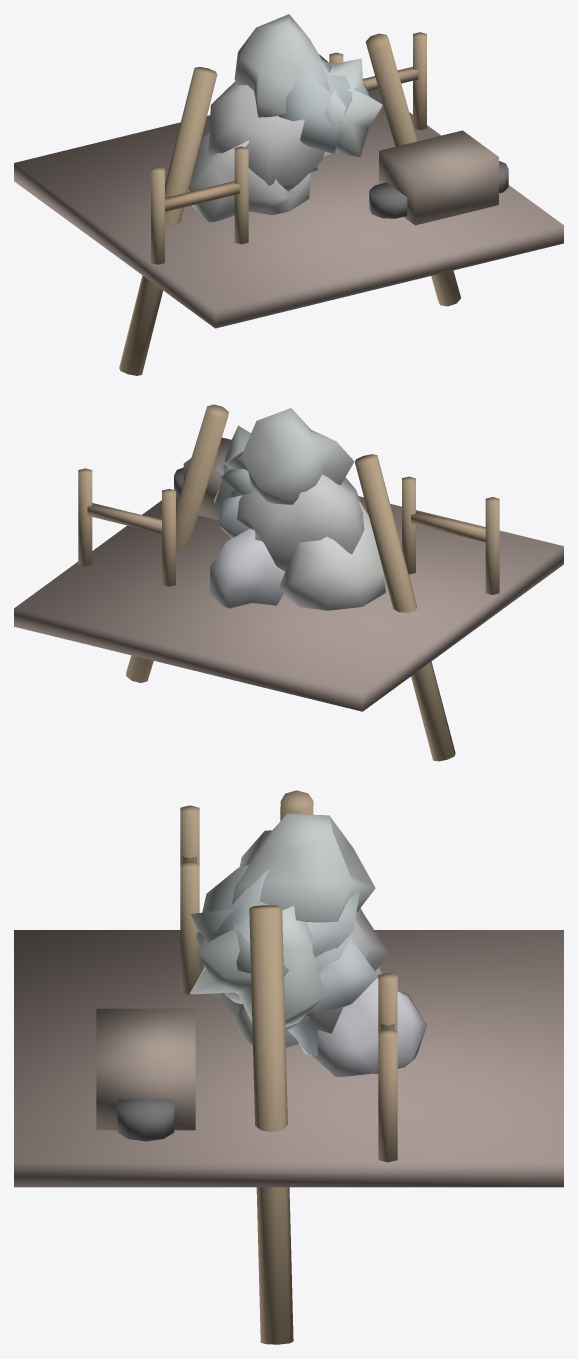
The model's file is ore_silver_medium.glb.
The picture shows the model from 3 angles, top to bottom: view 1: azimuth 30°, elevation 25°; view 2: azimuth 150°, elevation 25°; view 3: azimuth 270°, elevation 25°; orthographic projection. The views are drawn at different scales.
Visible parts, largest first — view 1: ore_base, cart_body, ore2, strut1, ore6, ore1, ore5, strut0, ore4, fpost-0.360.12, fpost-0.36-0.12, fpost0.36-0.12 (+2 smaller); view 2: ore_base, ore6, ore2, ore1, strut1, ore0, strut0, fpost-0.36-0.12, fpost0.36-0.12, fpost0.360.12, fpost-0.360.12, cart_body (+5 smaller); view 3: ore_base, strut0, cart_body, ore6, ore4, ore0, ore5, ore3, fpost0.36-0.12, fpost-0.360.12, ore2, cart_wheel1 (+4 smaller).
Part boxes in pixels (x1=…): ore_base: x1=14, y1=78, x2=563, y2=328; cart_body: x1=379, y1=130, x2=498, y2=225; ore2: x1=207, y1=81, x2=324, y2=191; strut1: x1=119, y1=67, x2=217, y2=375; ore6: x1=234, y1=14, x2=331, y2=117; ore1: x1=188, y1=134, x2=310, y2=222; ore5: x1=278, y1=56, x2=371, y2=153; strut0: x1=365, y1=33, x2=460, y2=306; ore4: x1=323, y1=58, x2=382, y2=157; fpost-0.360.12: x1=234, y1=146, x2=248, y2=244; fpost-0.36-0.12: x1=151, y1=167, x2=164, y2=264; fpost0.36-0.12: x1=413, y1=32, x2=426, y2=129; ore_base: x1=14, y1=496, x2=563, y2=711; ore6: x1=224, y1=408, x2=354, y2=504; ore2: x1=230, y1=474, x2=364, y2=570; ore1: x1=279, y1=502, x2=385, y2=610; strut1: x1=355, y1=454, x2=455, y2=761; ore0: x1=209, y1=528, x2=284, y2=608; strut0: x1=126, y1=404, x2=228, y2=682; fpost-0.36-0.12: x1=485, y1=497, x2=499, y2=594; fpost0.36-0.12: x1=78, y1=468, x2=92, y2=566; fpost0.360.12: x1=162, y1=489, x2=175, y2=586; fpost-0.360.12: x1=402, y1=476, x2=415, y2=574; cart_body: x1=183, y1=437, x2=231, y2=519; ore_base: x1=14, y1=930, x2=563, y2=1187; strut0: x1=249, y1=905, x2=293, y2=1344; cart_body: x1=96, y1=1008, x2=195, y2=1130; ore6: x1=231, y1=813, x2=375, y2=922; ore4: x1=189, y1=901, x2=325, y2=1027; ore0: x1=297, y1=978, x2=426, y2=1076; ore5: x1=196, y1=864, x2=359, y2=1030; ore3: x1=287, y1=937, x2=378, y2=1056; fpost0.36-0.12: x1=378, y1=1028, x2=397, y2=1162; fpost-0.360.12: x1=180, y1=861, x2=199, y2=994; ore2: x1=225, y1=908, x2=388, y2=1033; cart_wheel1: x1=117, y1=1099, x2=174, y2=1141.
Size of the model in its own units: 20 by 17.14 by 20.
